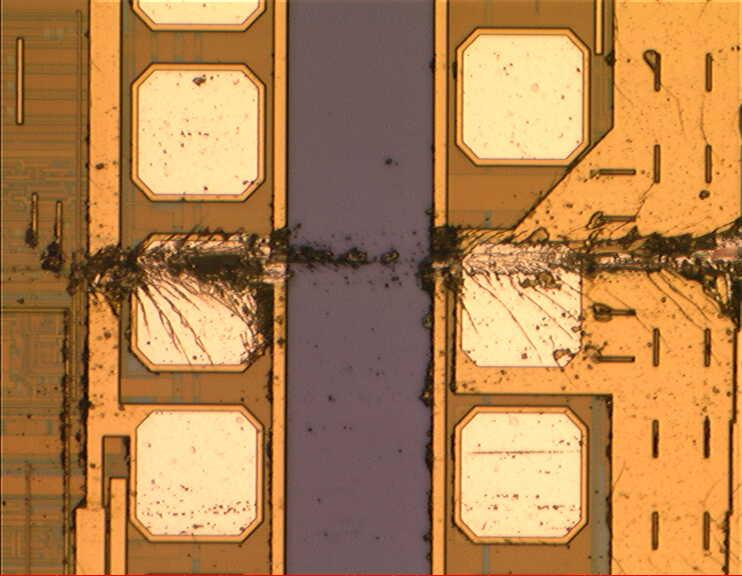SCRATCH: (3, 192, 742, 576)
